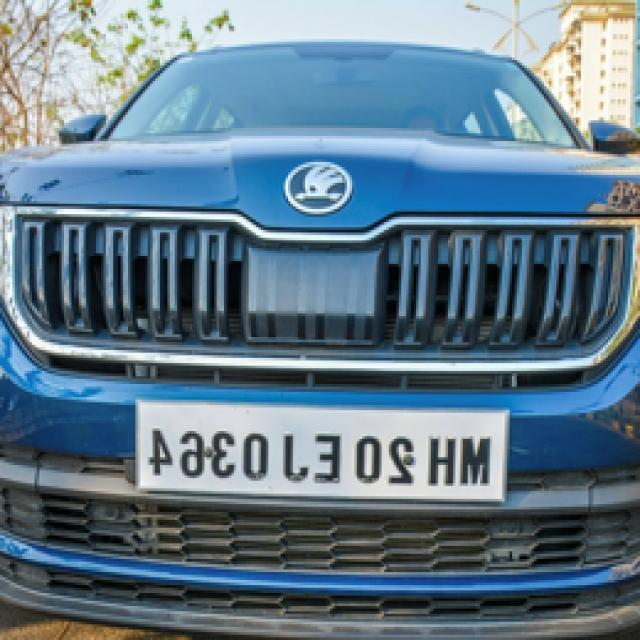license_plate: (126, 393, 515, 512)
